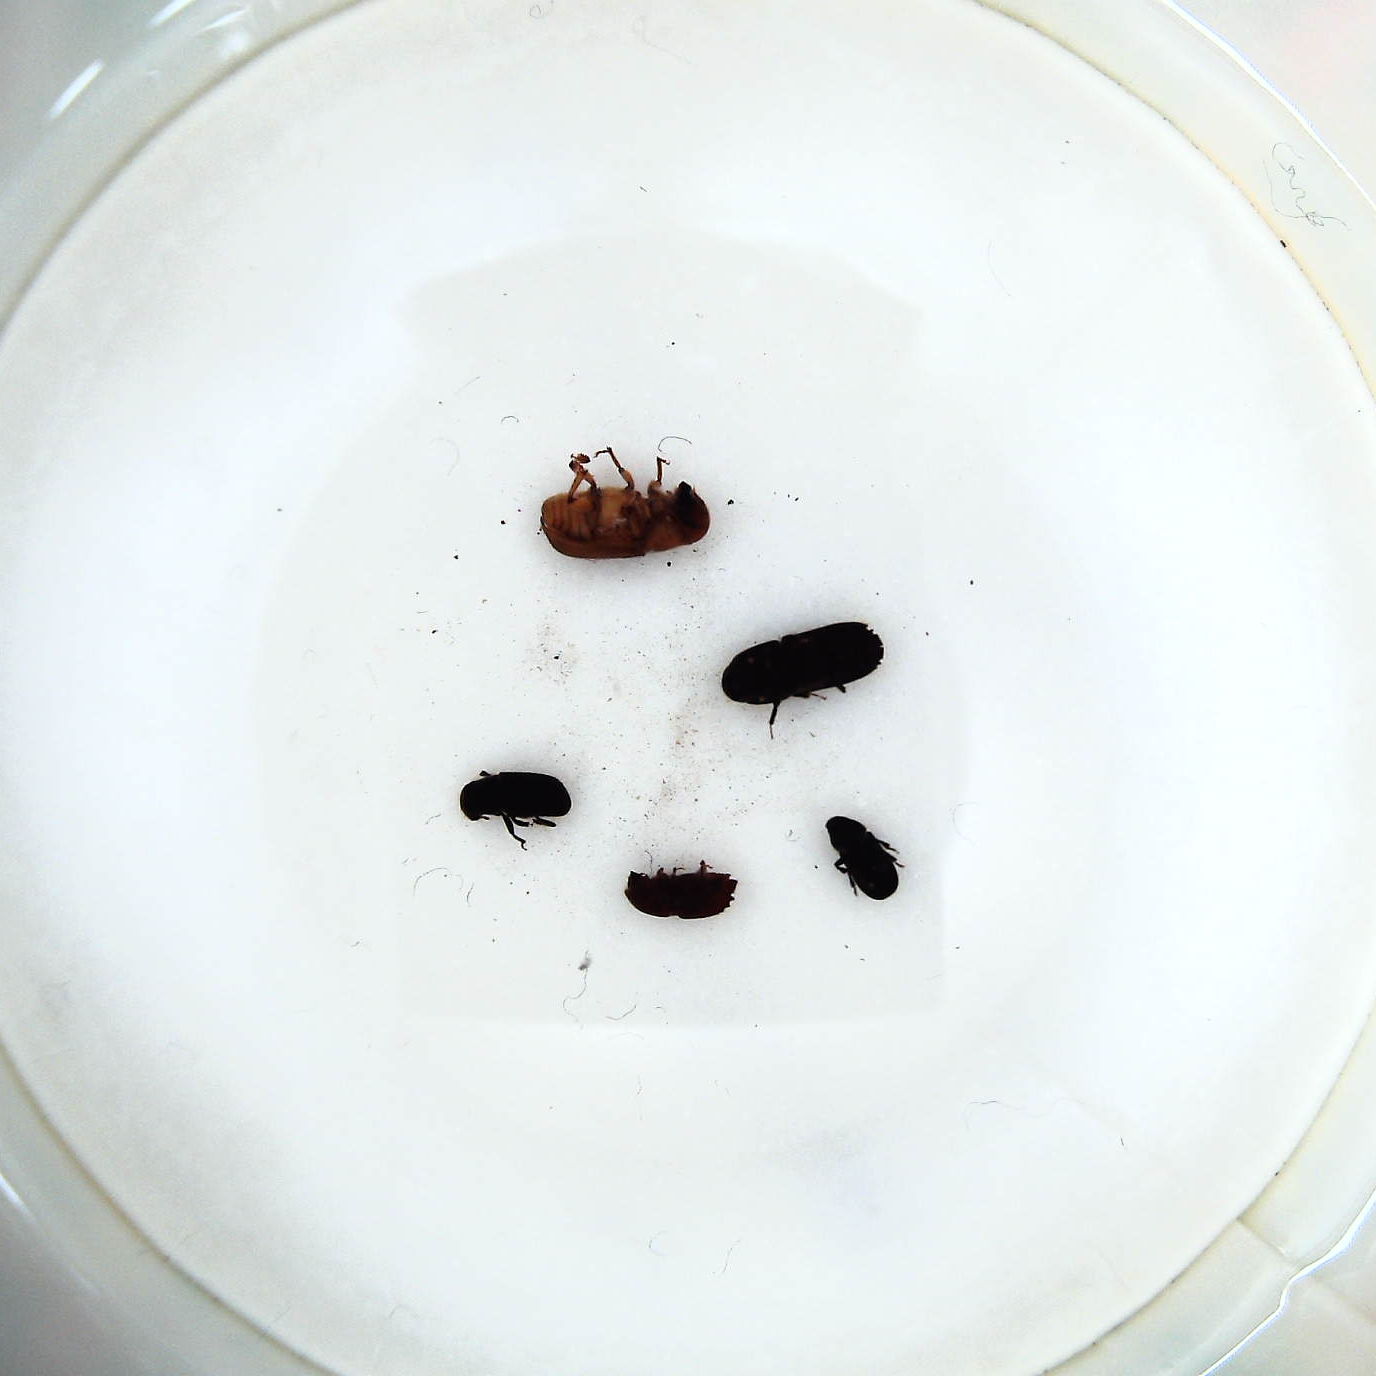Boerner: (717, 615, 888, 723)
Leconte: (542, 447, 712, 566)
armandi: (456, 769, 573, 847)
coleoptera: (820, 810, 903, 909)
linnaeus: (622, 859, 747, 925)
